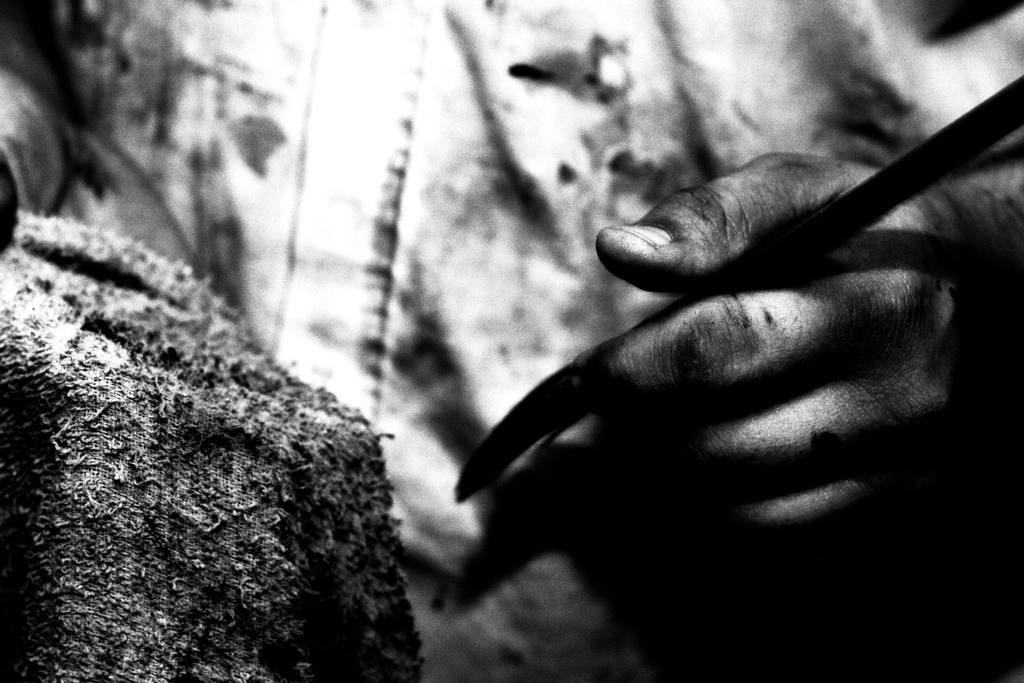Human_hand: (437, 98, 1016, 552)
